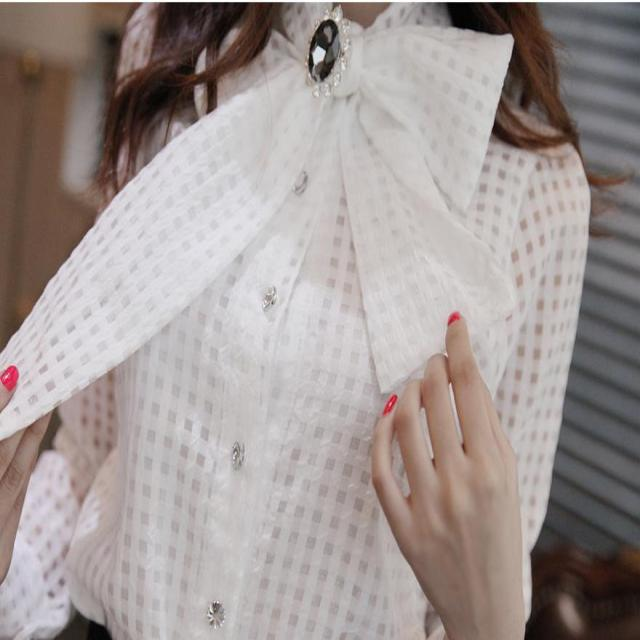long sleeve top: (0, 3, 593, 640)
